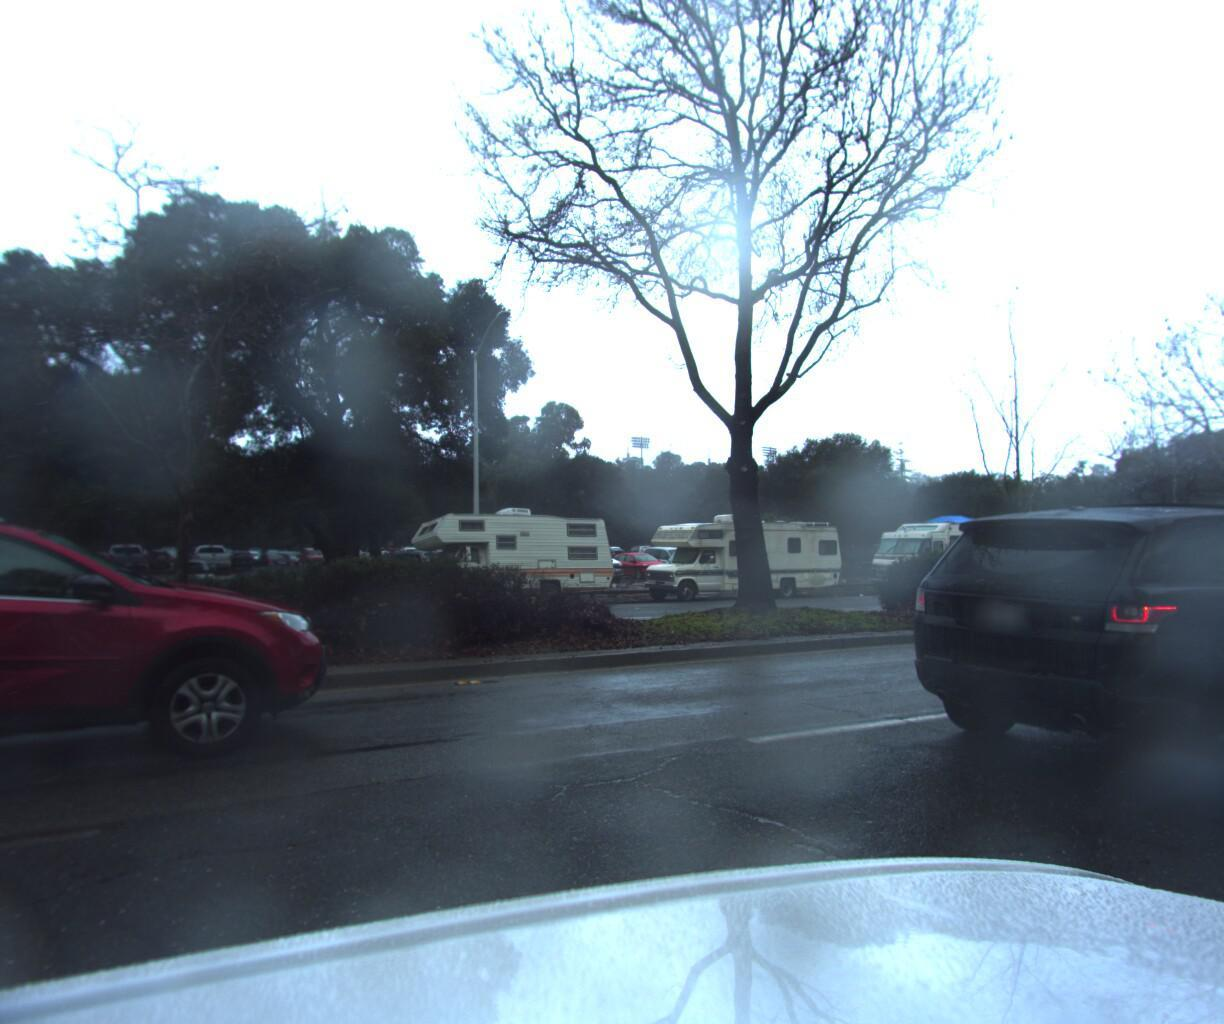car: (0, 481, 377, 837), (871, 473, 1224, 824), (180, 564, 355, 627), (368, 549, 444, 591), (545, 541, 627, 577), (162, 552, 223, 598), (598, 546, 676, 579)
other_vehicle: (404, 501, 617, 612), (636, 508, 846, 602), (860, 509, 1050, 597)
